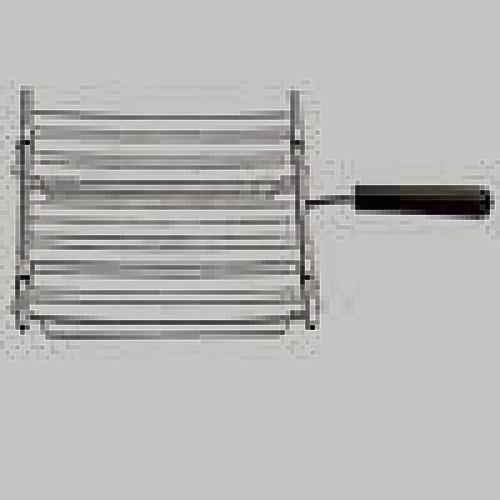toaster: (23, 88, 491, 343)
